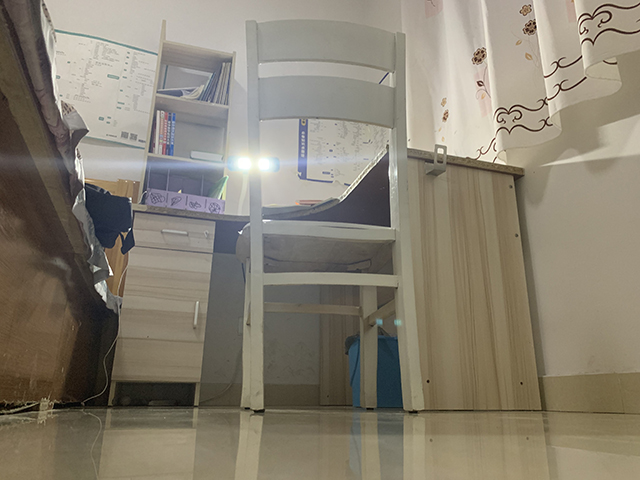bed: (1, 1, 142, 411)
curtain: (436, 2, 640, 163)
stool: (235, 18, 428, 418)
table: (122, 144, 546, 411)
trashcan: (343, 332, 405, 409)
wire: (79, 261, 129, 408), (198, 343, 241, 406)
